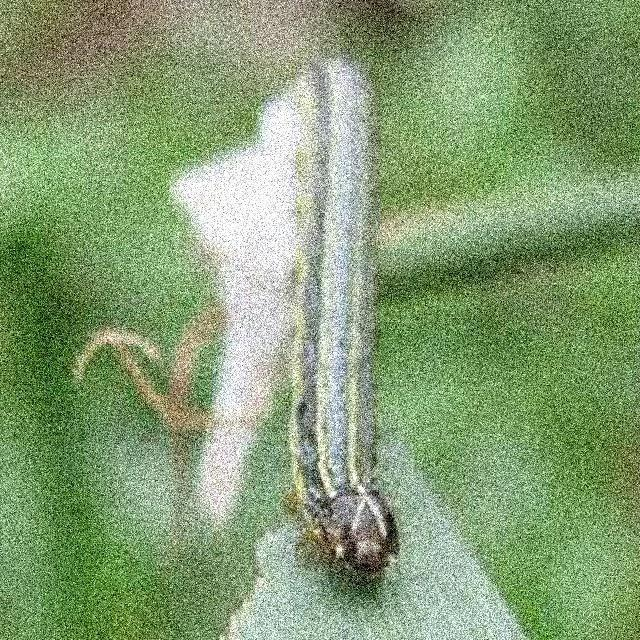gusano_cogollero: (305, 64, 395, 566)
